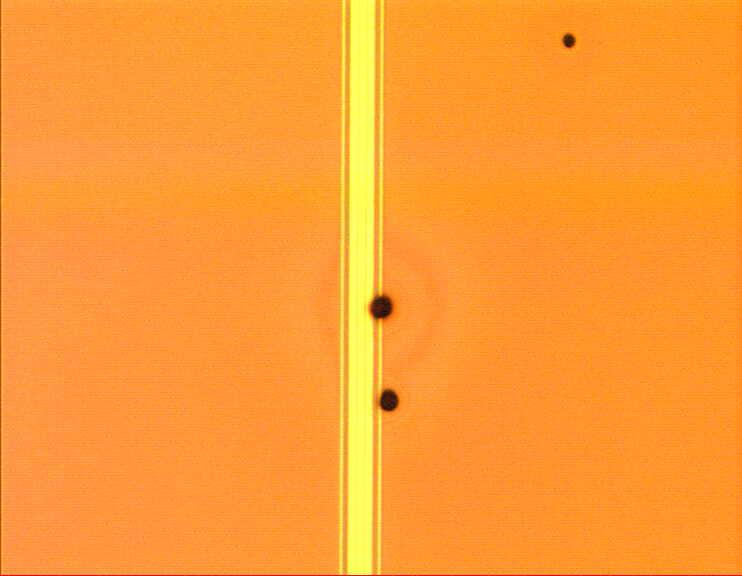PIQ PARTICLE: (365, 33, 580, 416)
